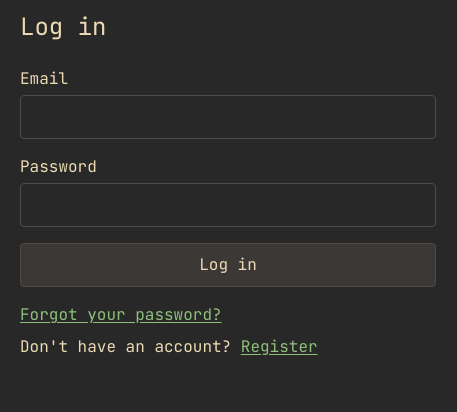
Scenario: Login › shows a retry time on rate limiting instead of a generic failure
In the field labelled "Email": point(228, 117) [20,95,436,139], type "logan@logandapp.com"
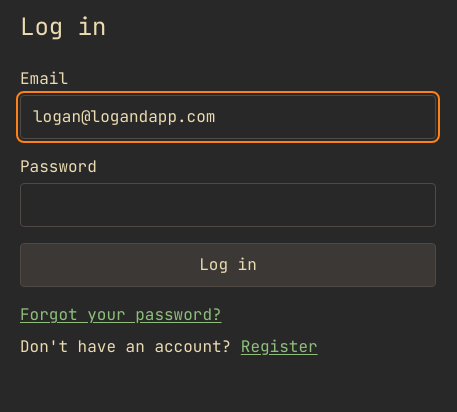
In the password field labelled "Password": point(228, 205) [20,183,436,227], type "wrong"
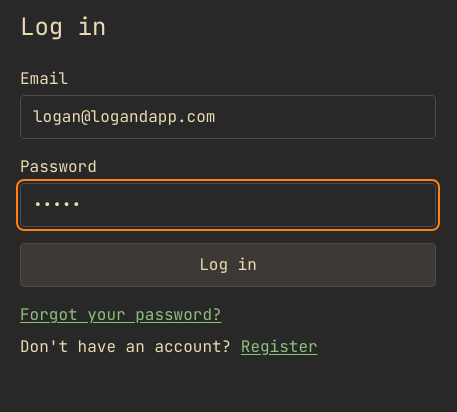
Click the button "Log in": point(228, 265) [20,243,436,287]
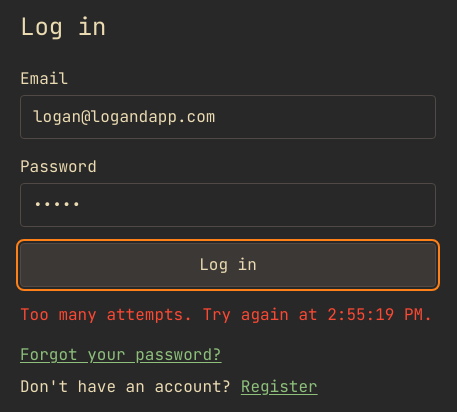
Check: the message shows "Too many attempts", box [20,304,433,325]
Check: the message shows "Try again at", box [20,304,433,325]
